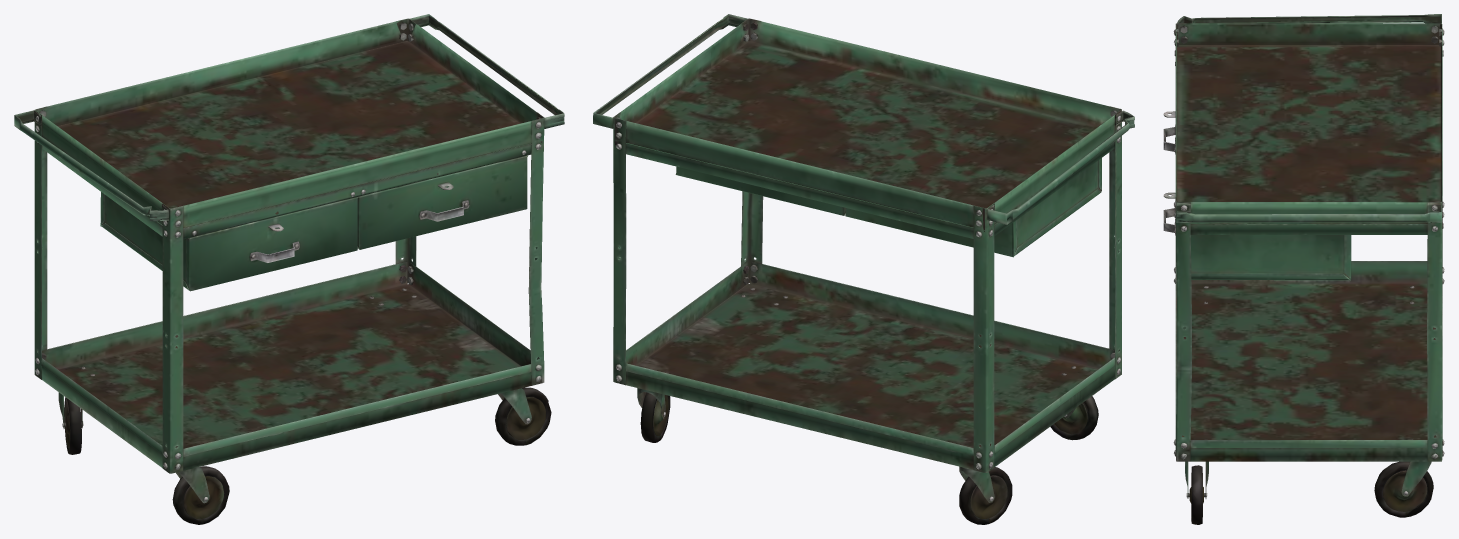
Rendered from tool_cart.25726e81.glb.
3 renders of one model, left to right at view 1: azimuth 30°, elevation 25°; view 2: azimuth 150°, elevation 25°; view 3: azimuth 270°, elevation 25°, orthographic. The views are drawn at different scales.
Visible parts, largest first — view 1: tool_cart; view 2: tool_cart; view 3: tool_cart.
Part boxes in pixels (x1,y1,x2,y2): tool_cart: (14,14,564,524); tool_cart: (593,14,1134,524); tool_cart: (1163,14,1444,524).
Bounding box in the file's own units: 0.95 × 0.7197 × 0.5614.
1 material, 1 textured.
